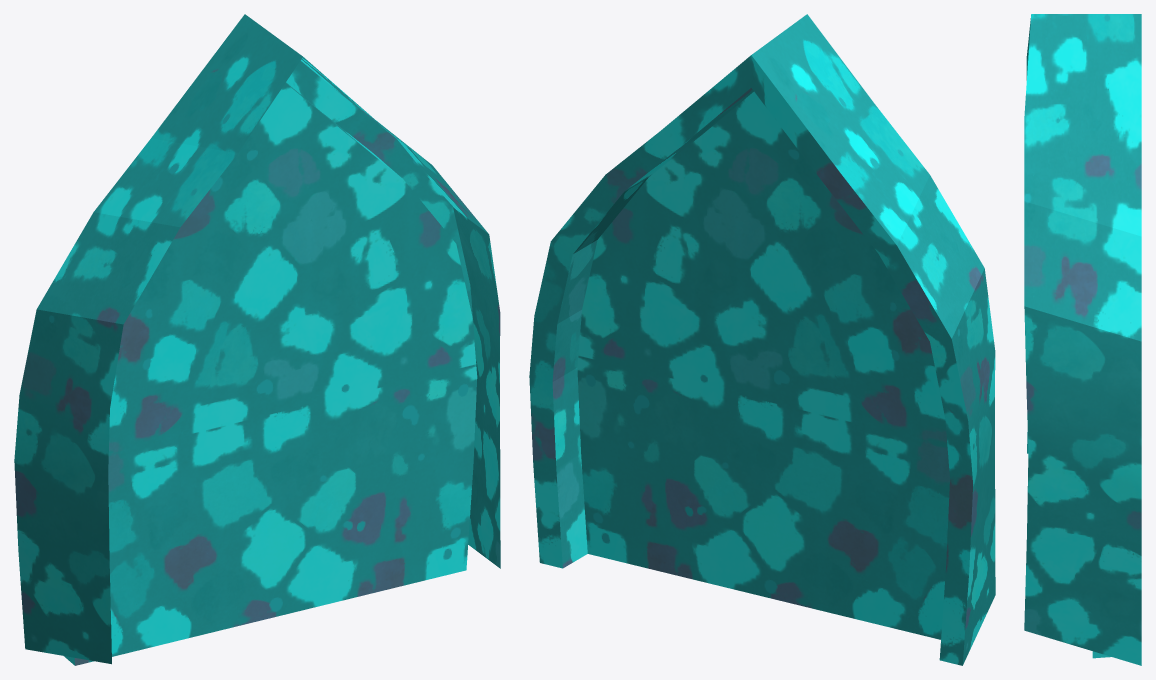
Rendered from Up_Transition.fbx.
3 renders of one model, left to right at view 1: azimuth 30°, elevation 25°; view 2: azimuth 150°, elevation 25°; view 3: azimuth 270°, elevation 25°, orthographic. The views are drawn at different scales.
Visible parts, largest first — view 1: Up_Transition; view 2: Up_Transition; view 3: Up_Transition.
Part boxes in pixels (x1,y1,x2,y2): Up_Transition: (14,14,500,665); Up_Transition: (529,14,995,665); Up_Transition: (1024,14,1141,665).
Size of the model in its own units: 324 by 392 by 75.41.
